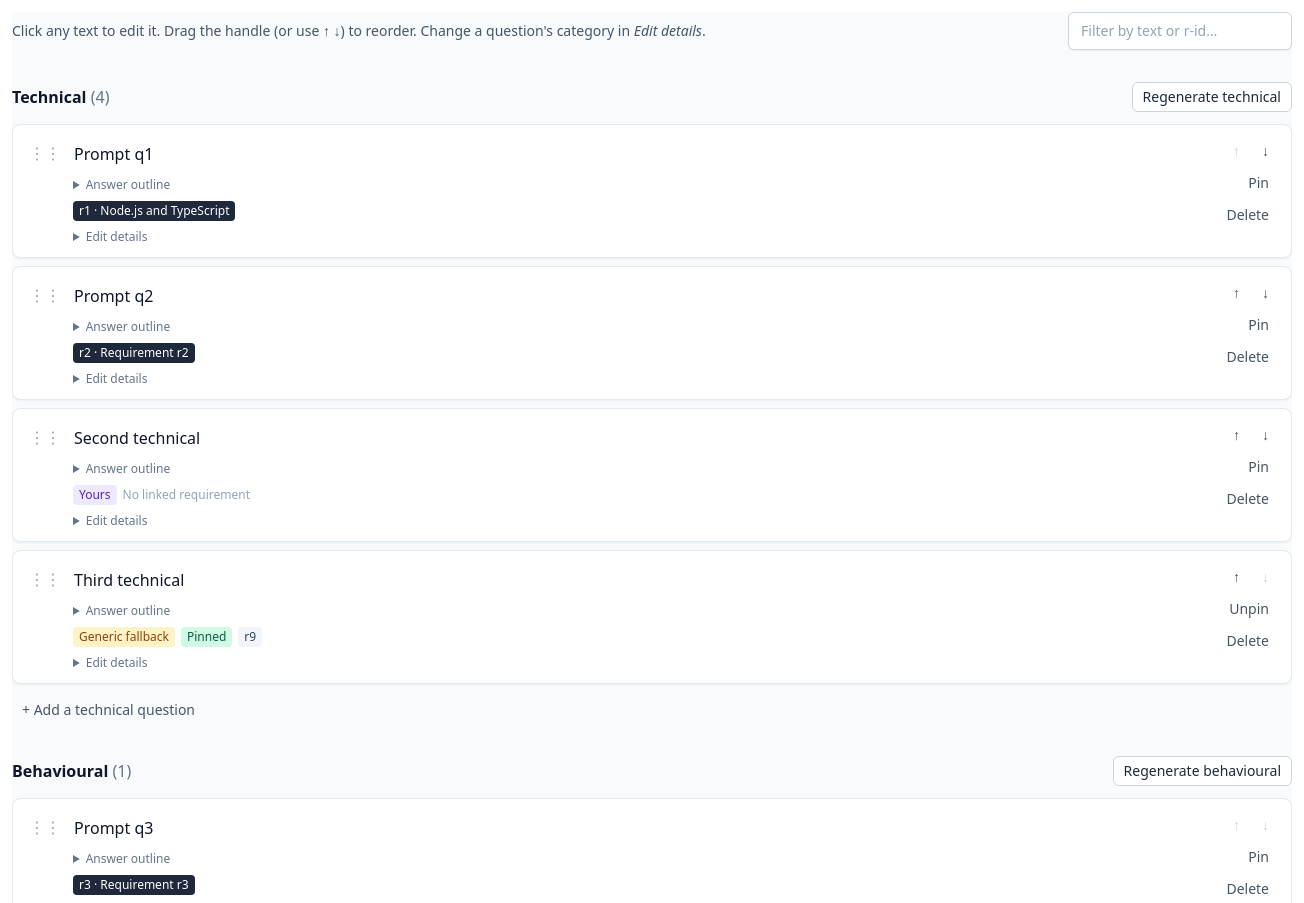
Test: QuestionBoard › filters by text or requirement id, and regenerates one category
Later steps or results of the test are not shown.
Type "third" into the field named "Filter questions" at (1180, 31), box [1068,12,1292,50]
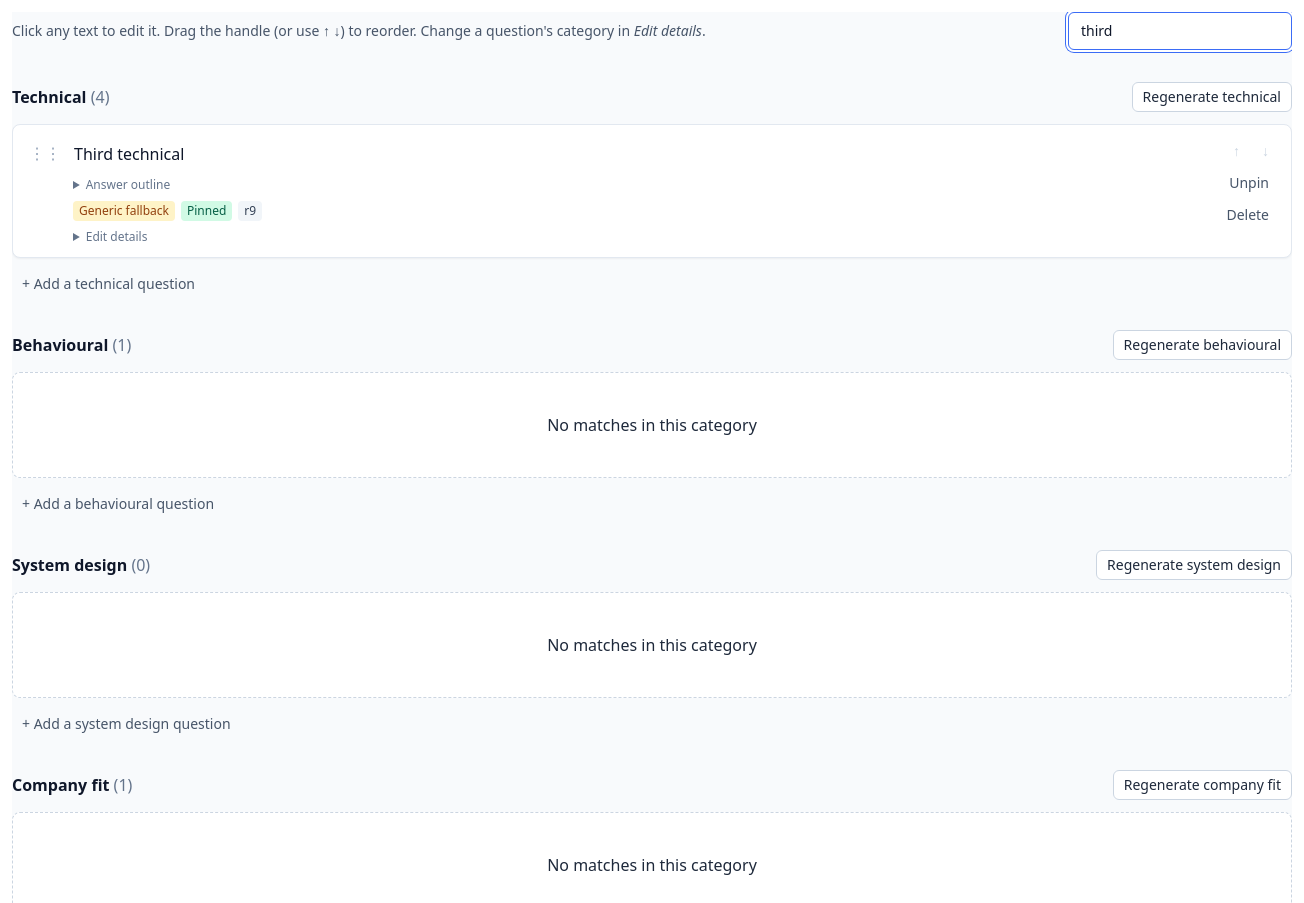
Check: the number of list items is 1, box [12,124,1292,258]
Check: the 1st text "No matches in this category" is shown, box [547,414,757,436]
Replace the text in the field named "Filter questions" with "r2" at (1180, 31), box [1068,12,1292,50]
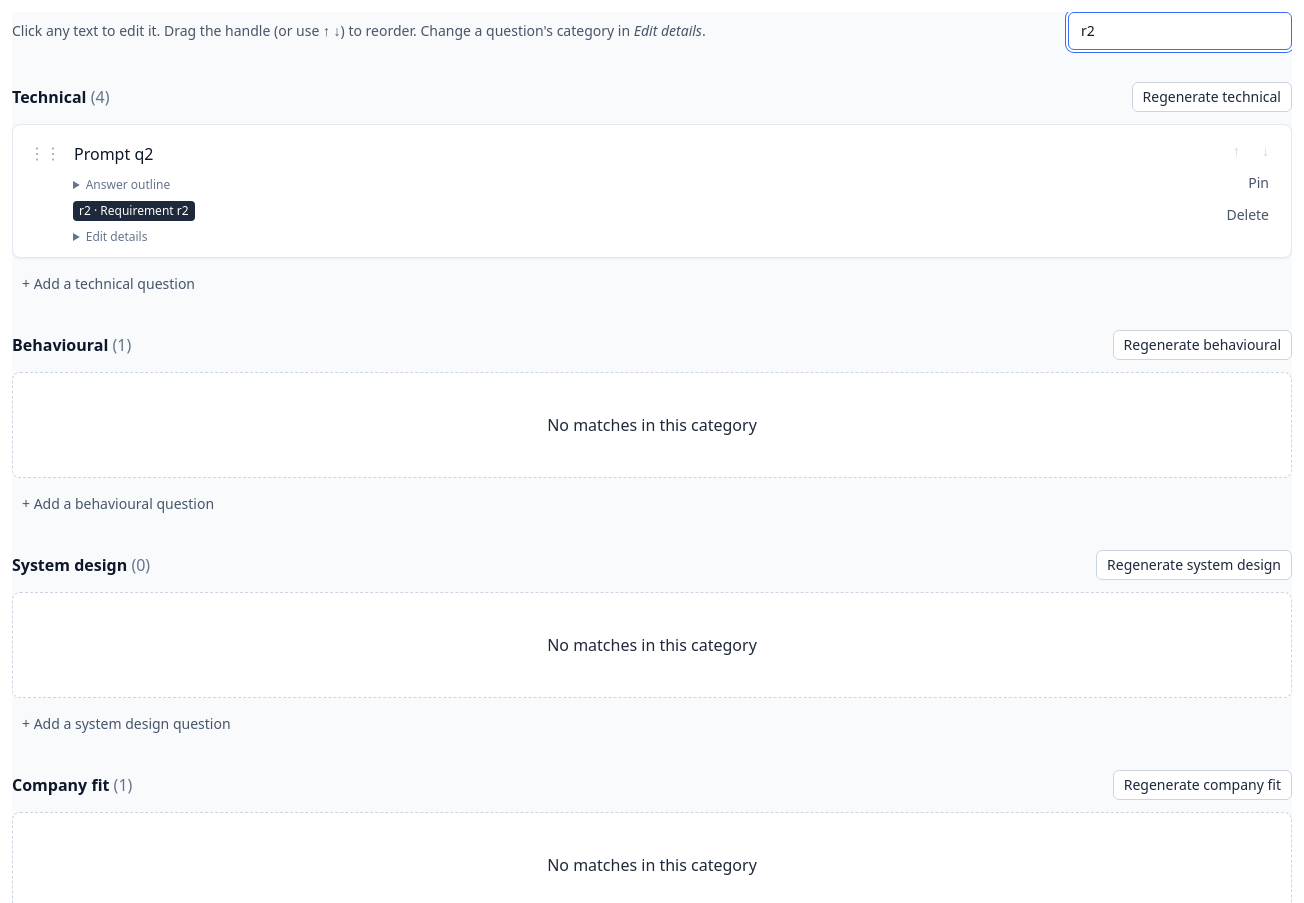
Check: the number of list items is 1, box [12,124,1292,258]
